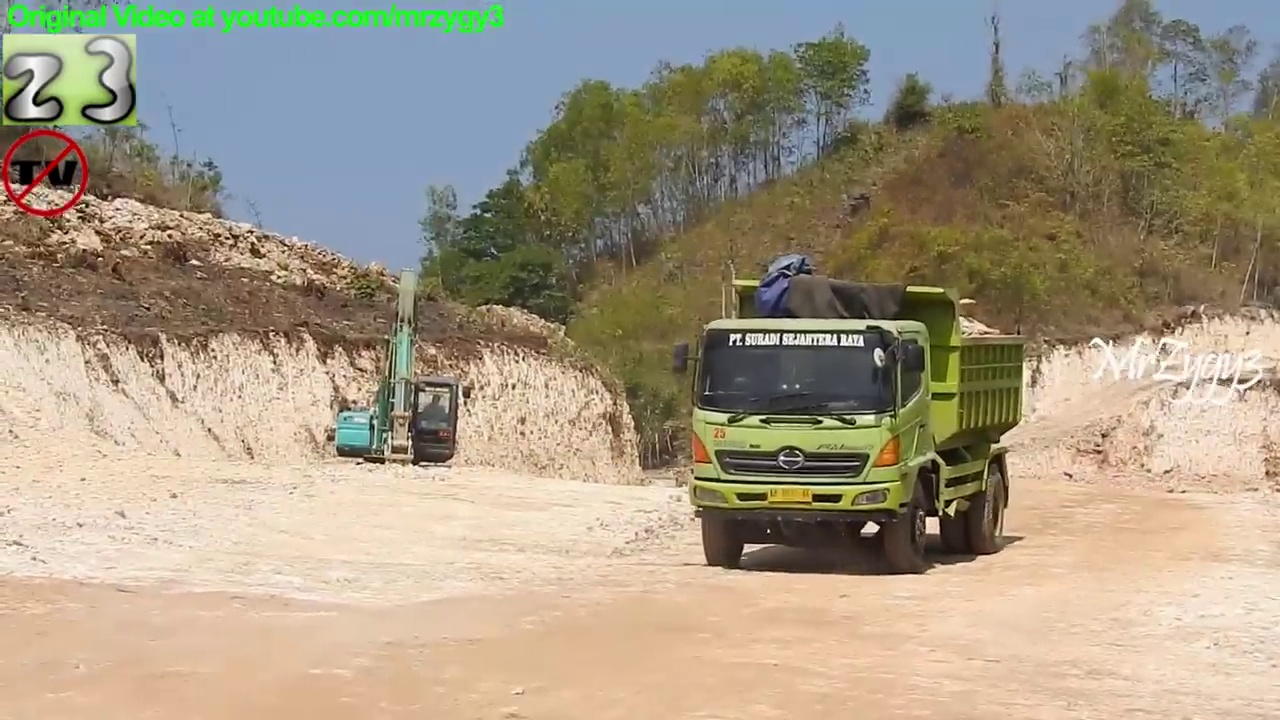excavator: (327, 264, 479, 499)
truck: (665, 271, 1034, 576)
